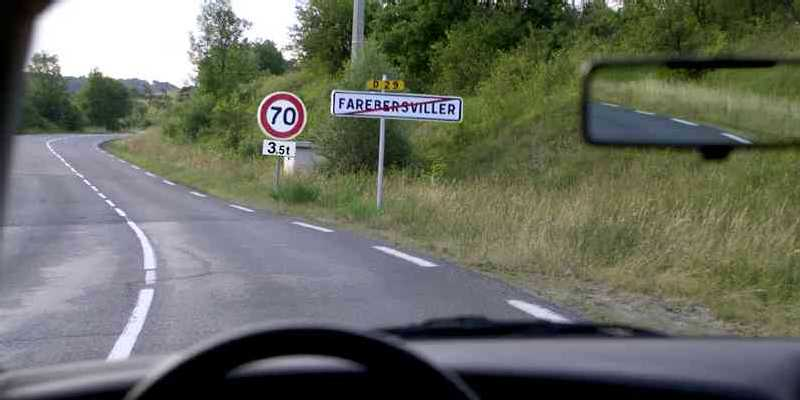Speed_limit_70km: (256, 91, 308, 140)
